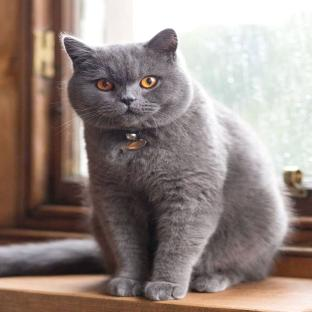Animal: (0, 28, 292, 300)
